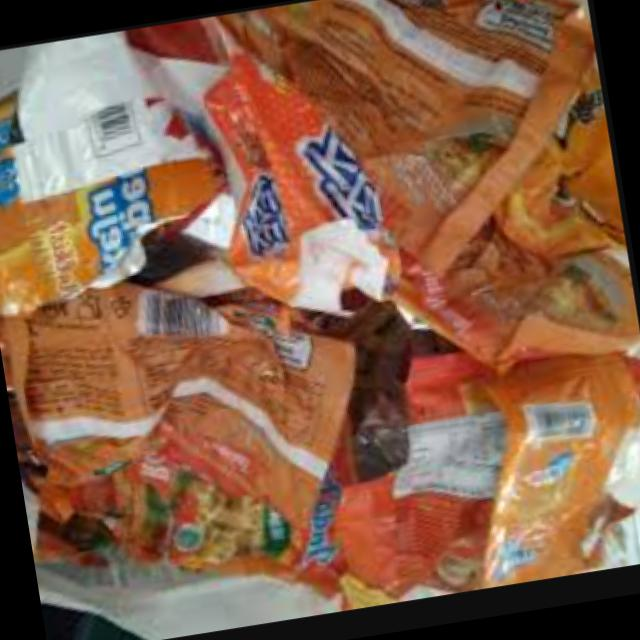KemasanPlastik: (9, 252, 382, 564), (337, 0, 632, 377), (183, 48, 396, 342), (0, 50, 229, 320), (444, 343, 640, 589)
